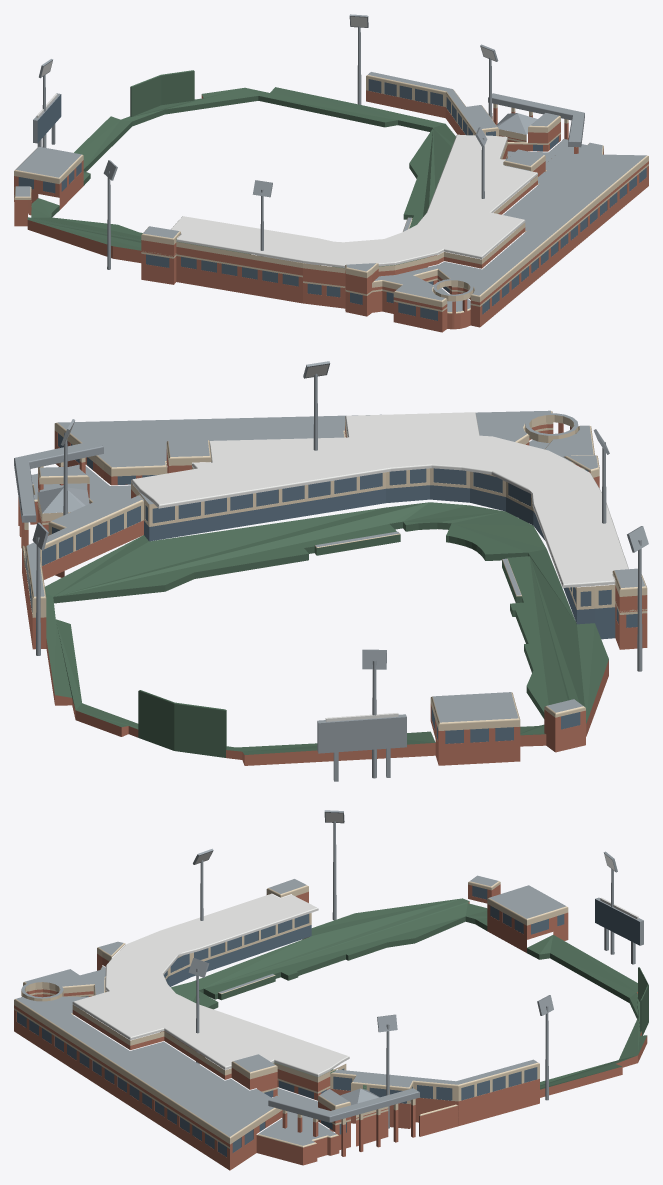
Rendered from truist-field.glb.
3 renders of one model, top to bottom at view 1: azimuth 30°, elevation 25°; view 2: azimuth 150°, elevation 25°; view 3: azimuth 270°, elevation 25°, orthographic. The views are drawn at different scales.
Parts seen in each view (by area): view 1: Truist Field; view 2: Truist Field; view 3: Truist Field.
Part boxes in pixels (x1,y1,x2,y2): Truist Field: (14, 14, 648, 332); Truist Field: (14, 361, 648, 781); Truist Field: (14, 810, 648, 1170).
Bounding box in the file's own units: 195 × 39.67 × 197.
